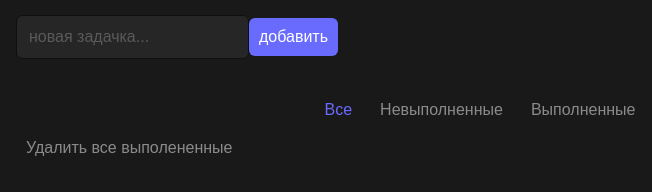
Test case: App › displays validation message if user tries to enter empty todo
Click the button "добавить": (294, 37) x1=249 y1=18 x2=338 y2=56
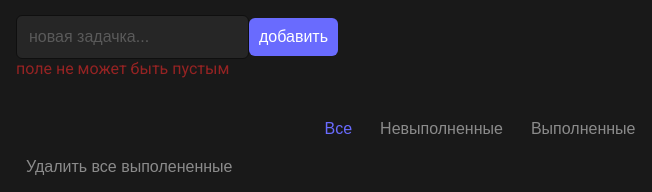
Expected: the text "поле не может быть пустым" is shown, x1=16 y1=59 x2=229 y2=78
